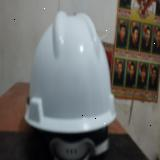Helmet: (24, 10, 117, 133)
